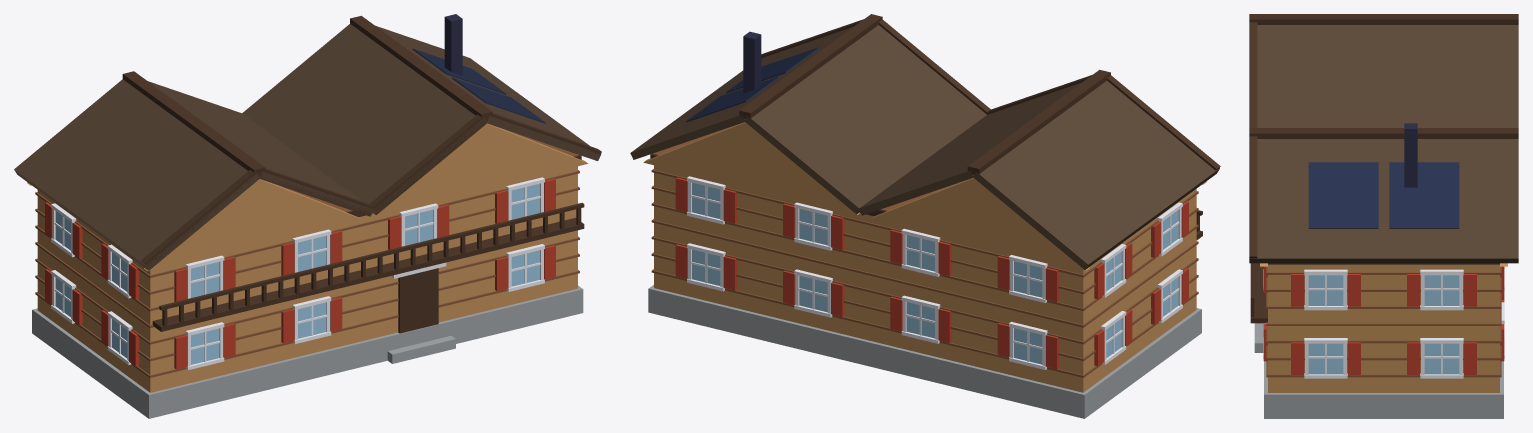
File: house-2x1-2f-chalet-a-solar.glb
3 renders of one model, left to right at view 1: azimuth 30°, elevation 25°; view 2: azimuth 150°, elevation 25°; view 3: azimuth 270°, elevation 25°, orthographic. The views are drawn at different scales.
Visible parts, largest first — view 1: house-2x1-2f-chalet-a-solar; view 2: house-2x1-2f-chalet-a-solar; view 3: house-2x1-2f-chalet-a-solar.
Part boxes in pixels (x1,y1,x2,y2): house-2x1-2f-chalet-a-solar: [14, 14, 601, 418]; house-2x1-2f-chalet-a-solar: [630, 14, 1220, 418]; house-2x1-2f-chalet-a-solar: [1249, 14, 1518, 418].
Bounding box in the file's own units: 2.01 × 1.08 × 1.
Materials: 1 (1 with a texture image).
